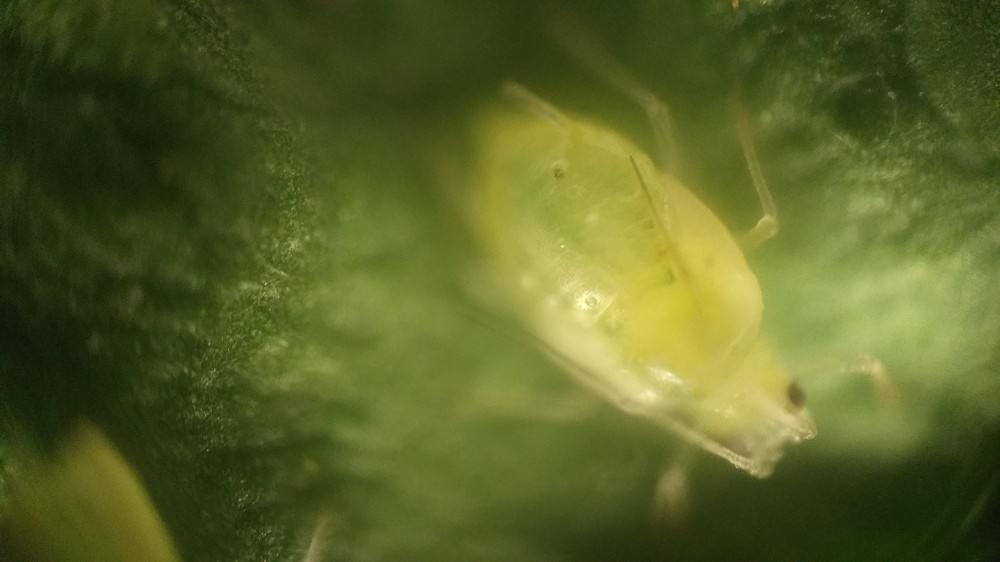Pulgon: (348, 21, 932, 551)
